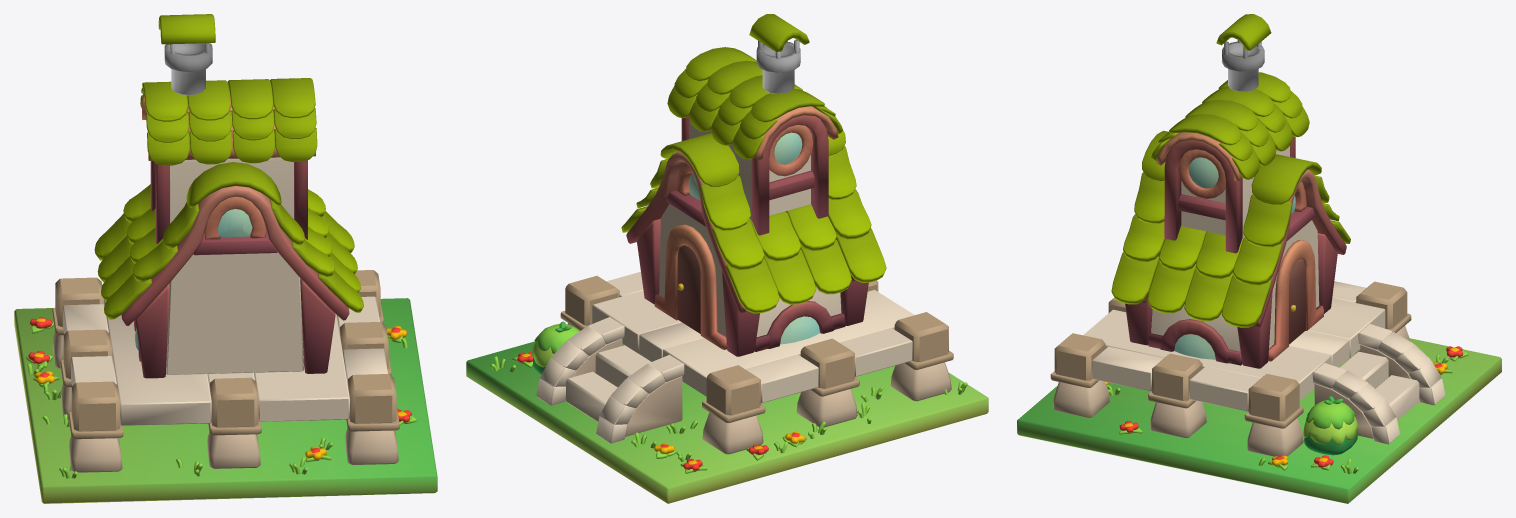
File: Lv_House_4.fbx
The picture shows the model from 3 angles, left to right: view 1: azimuth 30°, elevation 25°; view 2: azimuth 150°, elevation 25°; view 3: azimuth 270°, elevation 25°; orthographic projection. The views are drawn at different scales.
Parts seen in each view (by area): view 1: Cube_L2 21, Cube_L1 40, Cube_L2 18, Cube_L2 19, Cube_L1 38, Cube_L2 12, Cube_L2 11, Cube_L2 10, Cube_L1, Cube_L1 2, Cube_L1 1, Cube_L1 4 (+30 smaller); view 2: Cube_L2 21, Cube_L1 47, Cube_L2 18, Cube_L2 7, Cube_L1 9, Cube_L2 12, Cube_L2 13, Cube_L1, Cube_L2 4, Cube_L2, Cube_L1 4, Cube_L1 33 (+33 smaller); view 3: Cube_L2 21, Cube_L1 7, Cube_L2 8, Cube_L2 19, Cube_L1 47, Cube_L2 10, Cube_L2 9, Cube_L1, Cube_L2, Cube_L2 4, Cube_L2 1, Cube_L1 1 (+34 smaller).
Part boxes in pixels (x1,y1,x2,y2): Cube_L2 21: (14,298,437,503); Cube_L1 40: (166,252,303,375); Cube_L2 18: (104,300,211,425); Cube_L2 19: (254,314,349,421); Cube_L1 38: (121,186,349,325); Cube_L2 12: (68,381,123,472); Cube_L2 11: (207,377,261,468); Cube_L2 10: (345,374,399,464); Cube_L1: (158,14,215,95); Cube_L1 2: (227,79,275,163); Cube_L1 1: (270,78,317,162); Cube_L1 4: (140,81,189,165); Cube_L2 21: (466,341,988,503); Cube_L1 47: (654,224,726,349); Cube_L2 18: (663,289,914,396); Cube_L2 7: (702,365,765,454); Cube_L1 9: (751,115,828,235); Cube_L2 12: (890,312,953,401); Cube_L2 13: (796,338,859,427); Cube_L1: (749,14,809,93); Cube_L2 4: (596,355,684,443); Cube_L2: (536,317,624,405); Cube_L1 4: (732,89,842,159); Cube_L1 33: (754,301,845,351); Cube_L2 21: (1017,338,1501,503); Cube_L1 7: (1164,140,1242,253); Cube_L2 8: (1244,374,1303,456); Cube_L2 19: (1083,309,1331,400); Cube_L1 47: (1268,240,1323,361); Cube_L2 10: (1050,333,1109,417); Cube_L2 9: (1148,353,1206,437); Cube_L1: (1216,14,1271,91); Cube_L2: (1312,363,1399,444); Cube_L2 4: (1358,324,1445,405); Cube_L2 1: (1303,395,1358,455); Cube_L1 1: (1151,114,1259,179).
Bounding box in the file's own units: 8.09 × 6.8 × 8.27.
